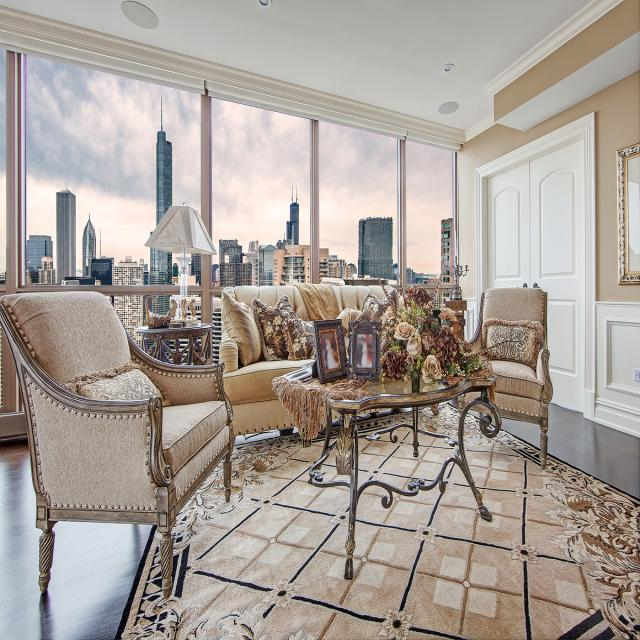Chair: (3, 277, 235, 593), (468, 282, 561, 463)
Lamp: (146, 193, 204, 333)
Sofa: (224, 275, 438, 418)
Table: (282, 366, 492, 565)
